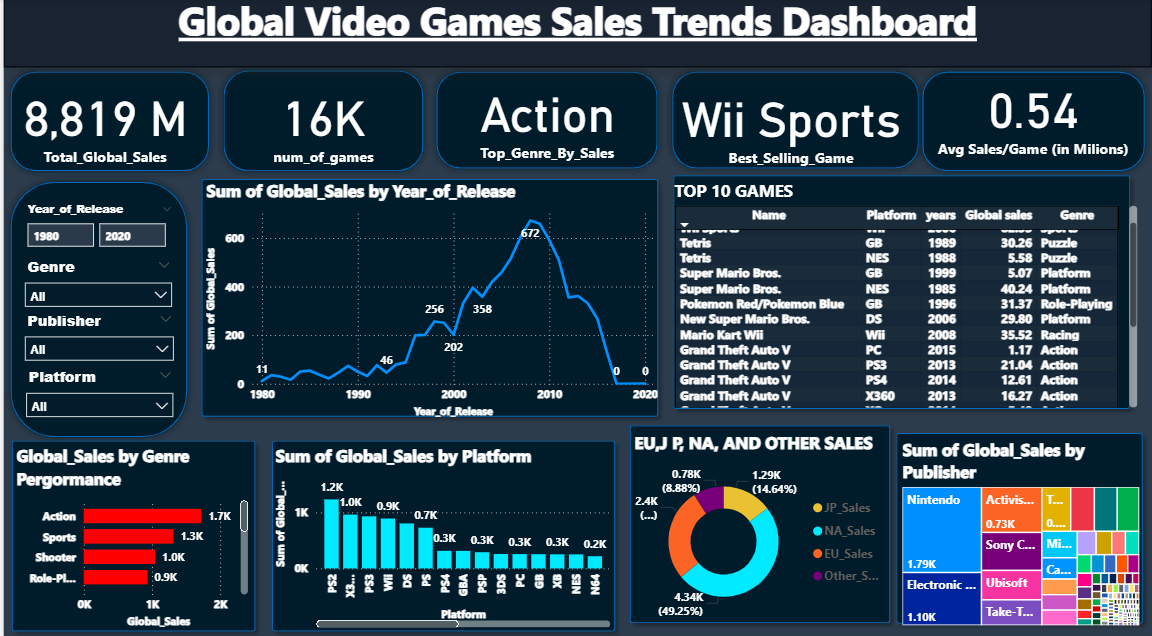

This screenshot's page, from the dashboard's own definition file:
{"tool":"powerbi","page":{"name":"DASHBOARD","canvas":[1280,720],"ordinal":1},"visuals":[{"type":"shape","box":[474.8,80.4,262,123.5],"z":0},{"type":"shape","box":[236.7,78.9,238.1,128],"z":1000},{"type":"shape","box":[211.3,198,526.9,282.8],"z":2000},{"type":"shape","box":[0,203.4,212.1,300],"z":3000},{"type":"shape","box":[736.7,80.4,290.2,123.5],"z":4000},{"type":"shape","box":[689.1,473.3,308.1,238.1],"z":5000},{"type":"shape","box":[0,80.4,236.7,126.5],"z":6000},{"type":"textbox","box":[0,0,1279.3,82.8],"z":7000},{"type":"card","fields":{"Values":["Cleaned_Video_Games.Total_Global_Sales"]},"box":[0,84.8,226.2,119.1],"z":8000},{"type":"shape","box":[986.4,481,292.3,230.4],"z":9000},{"type":"shape","box":[289.4,489.6,400.3,230.4],"z":10000},{"type":"shape","box":[1015.1,80.4,263.4,126.5],"z":10500},{"type":"shape","box":[0,489.6,289.4,230.4],"z":11000},{"type":"card","fields":{"Values":["Cleaned_Video_Games.Top_Genre_By_Sales"]},"box":[480.7,86.3,248.6,107.2],"z":12000},{"type":"card","fields":{"Values":["Cleaned_Video_Games.Best_Selling_Game"]},"box":[748.7,93.8,257.5,101.2],"z":13000},{"type":"card","fields":{"Values":["Cleaned_Video_Games.num_of_games"]},"box":[236.7,86.3,238.1,117.6],"z":14000},{"type":"slicer","fields":{"Values":["Cleaned_Video_Games.Year_of_Release"]},"box":[19,232.8,175.9,60.3],"z":15000},{"type":"slicer","fields":{"Values":["Cleaned_Video_Games.Genre"]},"box":[19,293.1,174.1,60.3],"z":16000},{"type":"slicer","fields":{"Values":["Cleaned_Video_Games.Platform"]},"box":[20.7,415.5,174.1,60.3],"z":17000},{"type":"slicer","fields":{"Values":["Cleaned_Video_Games.Publisher"]},"box":[19,353.4,175.9,62.1],"z":18000},{"type":"lineChart","fields":{"Y":["Sum(Cleaned_Video_Games.Global_Sales)"],"Category":["Cleaned_Video_Games.Year_of_Release"]},"box":[226.2,206.9,503.1,266.4],"z":19000},{"type":"barChart","fields":{"Category":["Cleaned_Video_Games.Genre"],"Y":["Sum(Cleaned_Video_Games.Global_Sales)"]},"box":[14.4,502.6,257.8,204.5],"z":20000},{"type":"donutChart","title":"EU,J P, NA, AND OTHER SALES ","fields":{"Y":["Sum(Cleaned_Video_Games.JP_Sales)","Sum(Cleaned_Video_Games.NA_Sales)","Sum(Cleaned_Video_Games.EU_Sales)","Sum(Cleaned_Video_Games.Other_Sales)"]},"box":[702.5,488.2,284.3,215.8],"z":21000},{"type":"columnChart","fields":{"Category":["Cleaned_Video_Games.Platform"],"Y":["Sum(Cleaned_Video_Games.Global_Sales)"]},"box":[302.4,502.6,373,204.5],"z":22000},{"type":"shape","box":[736.7,195,526.9,278.3],"z":23000},{"type":"tableEx","title":"TOP 10 GAMES","fields":{"Values":["Cleaned_Video_Games.Name","Cleaned_Video_Games.Platform","Sum(Cleaned_Video_Games.Year_of_Release)","Sum(Cleaned_Video_Games.Global_Sales)","Cleaned_Video_Games.Genre"]},"box":[747.2,206.9,516.5,254.5],"z":24000},{"type":"treemap","fields":{"Group":["Cleaned_Video_Games.Publisher"],"Values":["Sum(Cleaned_Video_Games.Global_Sales)"]},"box":[1000.8,495.4,263.5,208.8],"z":25000},{"type":"card","title":"Avg Sales/Game","fields":{"Values":["Cleaned_Video_Games.Average_Global_Sales_Per_Game"]},"box":[1021,65.5,251.5,138.4],"z":26000}]}

Visuals, with their boxes in screenshot pixels (x1, y1, x2, y2), scaled from the page's 1280x720 canvas onto the 1152x636 screenshot:
shape: x1=427, y1=71, x2=663, y2=180
shape: x1=213, y1=70, x2=427, y2=183
shape: x1=190, y1=175, x2=664, y2=425
shape: x1=0, y1=180, x2=191, y2=445
shape: x1=663, y1=71, x2=924, y2=180
shape: x1=620, y1=418, x2=897, y2=628
shape: x1=0, y1=71, x2=213, y2=183
textbox: x1=0, y1=0, x2=1151, y2=73
card - Cleaned_Video_Games.Total_Global_Sales: x1=0, y1=75, x2=204, y2=180
shape: x1=888, y1=425, x2=1151, y2=628
shape: x1=260, y1=432, x2=621, y2=635
shape: x1=914, y1=71, x2=1151, y2=183
shape: x1=0, y1=432, x2=260, y2=635
card - Cleaned_Video_Games.Top_Genre_By_Sales: x1=433, y1=76, x2=656, y2=171
card - Cleaned_Video_Games.Best_Selling_Game: x1=674, y1=83, x2=906, y2=172
card - Cleaned_Video_Games.num_of_games: x1=213, y1=76, x2=427, y2=180
slicer - Cleaned_Video_Games.Year_of_Release: x1=17, y1=206, x2=175, y2=259
slicer - Cleaned_Video_Games.Genre: x1=17, y1=259, x2=174, y2=312
slicer - Cleaned_Video_Games.Platform: x1=19, y1=367, x2=175, y2=420
slicer - Cleaned_Video_Games.Publisher: x1=17, y1=312, x2=175, y2=367
lineChart - Sum(Cleaned_Video_Games.Global_Sales) x Cleaned_Video_Games.Year_of_Release: x1=204, y1=183, x2=656, y2=418
barChart - Cleaned_Video_Games.Genre x Sum(Cleaned_Video_Games.Global_Sales): x1=13, y1=444, x2=245, y2=625
"EU,J P, NA, AND OTHER SALES " donutChart: x1=632, y1=431, x2=888, y2=622
columnChart - Cleaned_Video_Games.Platform x Sum(Cleaned_Video_Games.Global_Sales): x1=272, y1=444, x2=608, y2=625
shape: x1=663, y1=172, x2=1137, y2=418
"TOP 10 GAMES" tableEx: x1=672, y1=183, x2=1137, y2=408
treemap - Cleaned_Video_Games.Publisher x Sum(Cleaned_Video_Games.Global_Sales): x1=901, y1=438, x2=1138, y2=622
"Avg Sales/Game" card: x1=919, y1=58, x2=1145, y2=180
